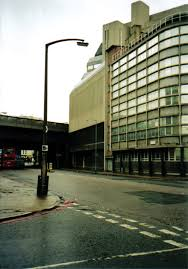light_pole: (35, 39, 53, 202)
